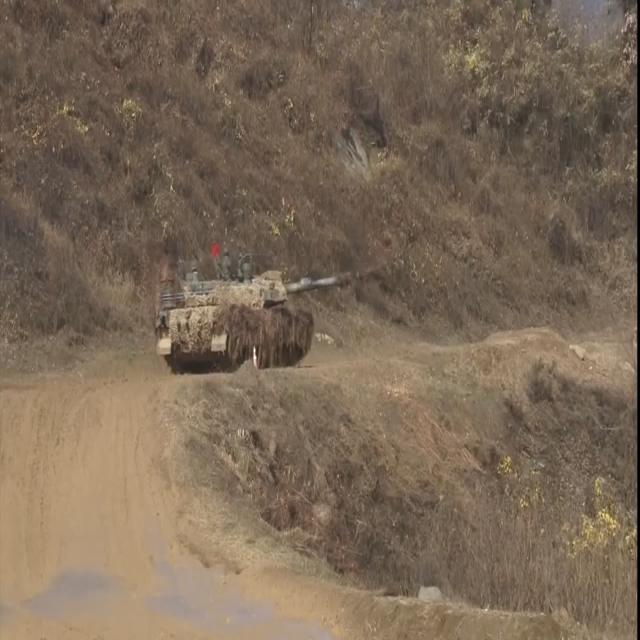korea tank: (156, 232, 393, 374)
